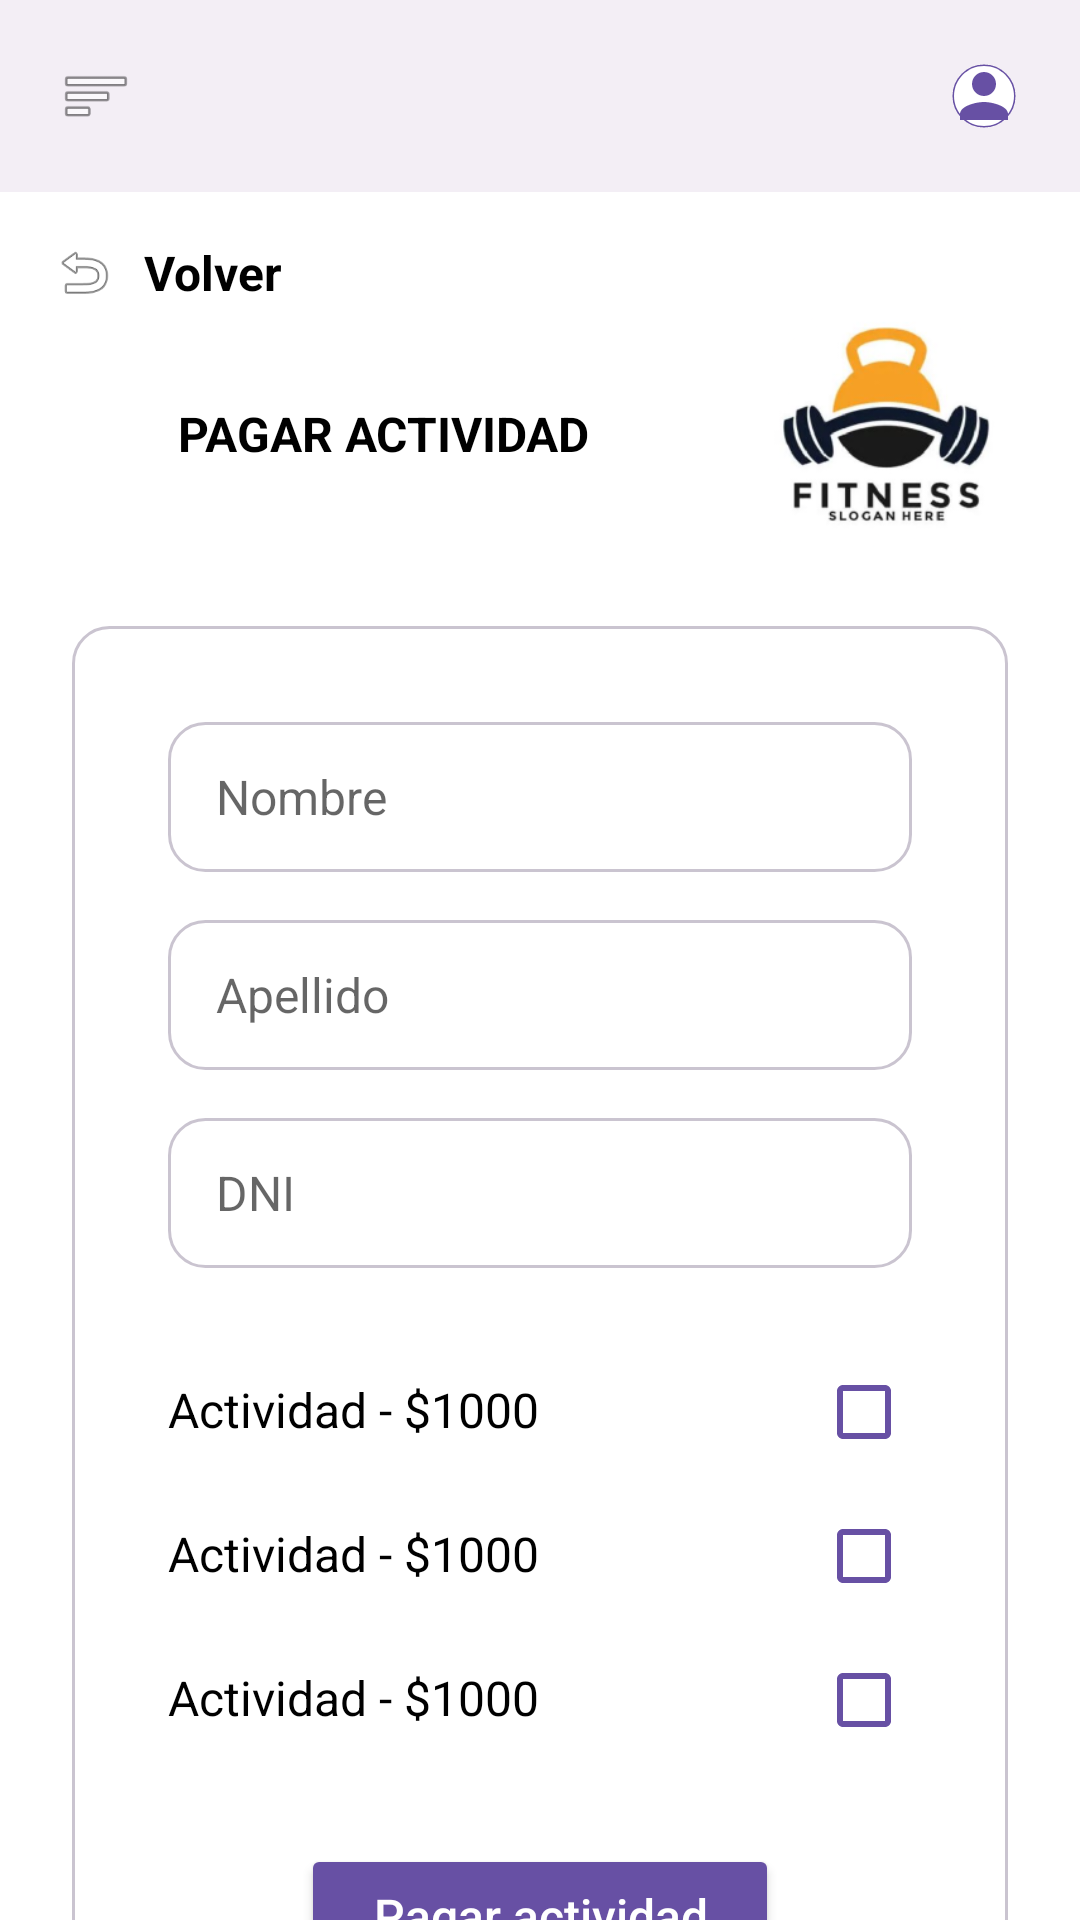

Screen size 1080 × 1920. Icon name, then its box in pixels as [x1=x1, y1=y1, x2=x2, y2=y2]:
revert: [x1=61, y1=252, x2=108, y2=294]
sort by size: [x1=65, y1=76, x2=127, y2=117]
